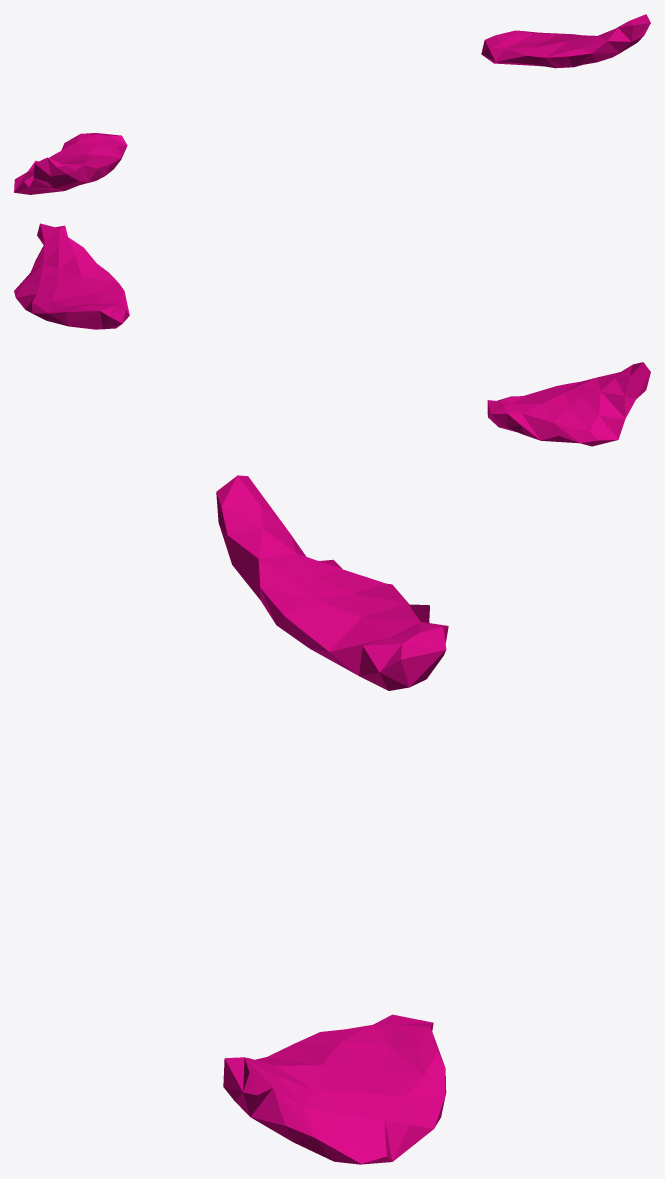
File: 214-PaL-paralaminar amygdaloid nucleus-('1.0000', '0.0000', '0.6118').obj
3 views of the same model, one above another, from view 1: azimuth 30°, elevation 25°; view 2: azimuth 150°, elevation 25°; view 3: azimuth 270°, elevation 25° (orthographic). The views are drawn at different scales.
Size of the model in its own units: 149 by 14.4 by 24.47.
